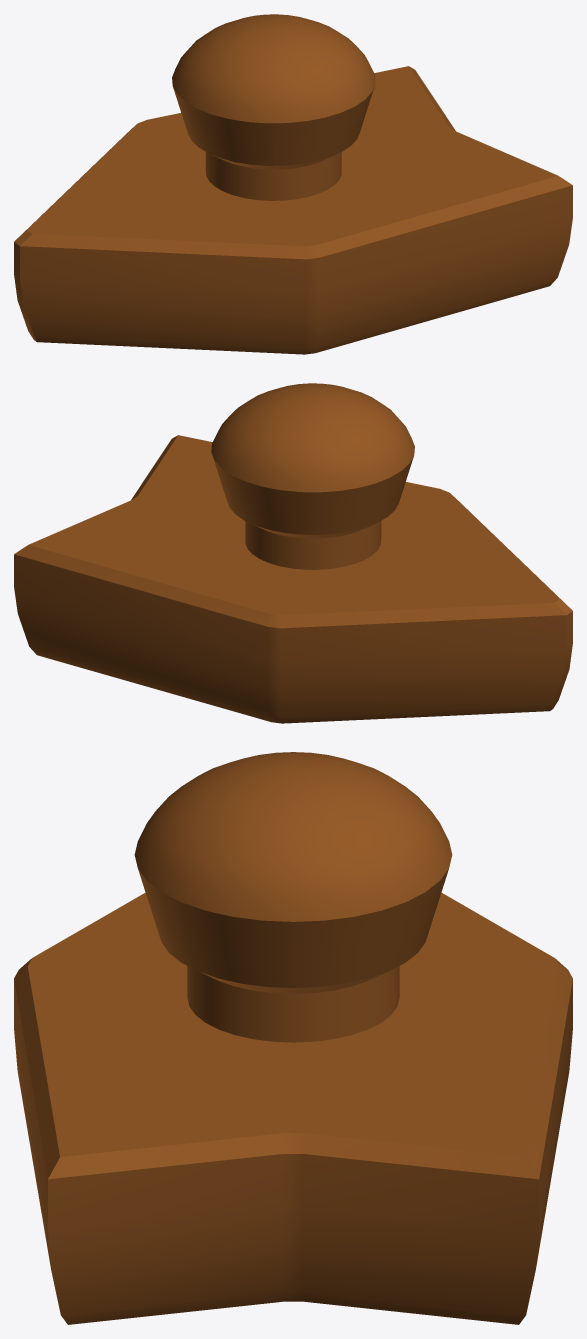
The model's file is SM_ArrowHeadStamp.fbx.
3 views of the same model, one above another, from view 1: azimuth 30°, elevation 25°; view 2: azimuth 150°, elevation 25°; view 3: azimuth 270°, elevation 25° (orthographic). The views are drawn at different scales.
Parts seen in each view (by area): view 1: SM_Arrowhead_Stamp; view 2: SM_Arrowhead_Stamp; view 3: SM_Arrowhead_Stamp.
Part boxes in pixels (box(x1,y1,x2,y2)): SM_Arrowhead_Stamp: box(14, 14, 572, 354); SM_Arrowhead_Stamp: box(14, 383, 572, 723); SM_Arrowhead_Stamp: box(14, 752, 572, 1324).
Size of the model in its own units: 9.08 by 4.64 by 5.92.
